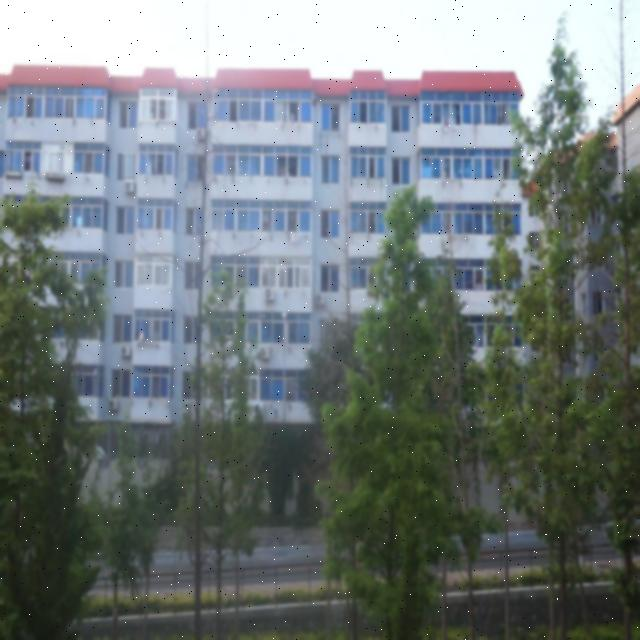UAV: (310, 95, 318, 106)
